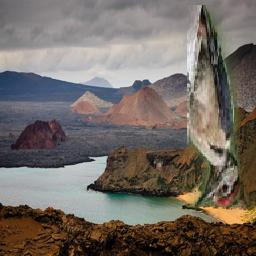Woodpecker: (188, 5, 241, 207)
